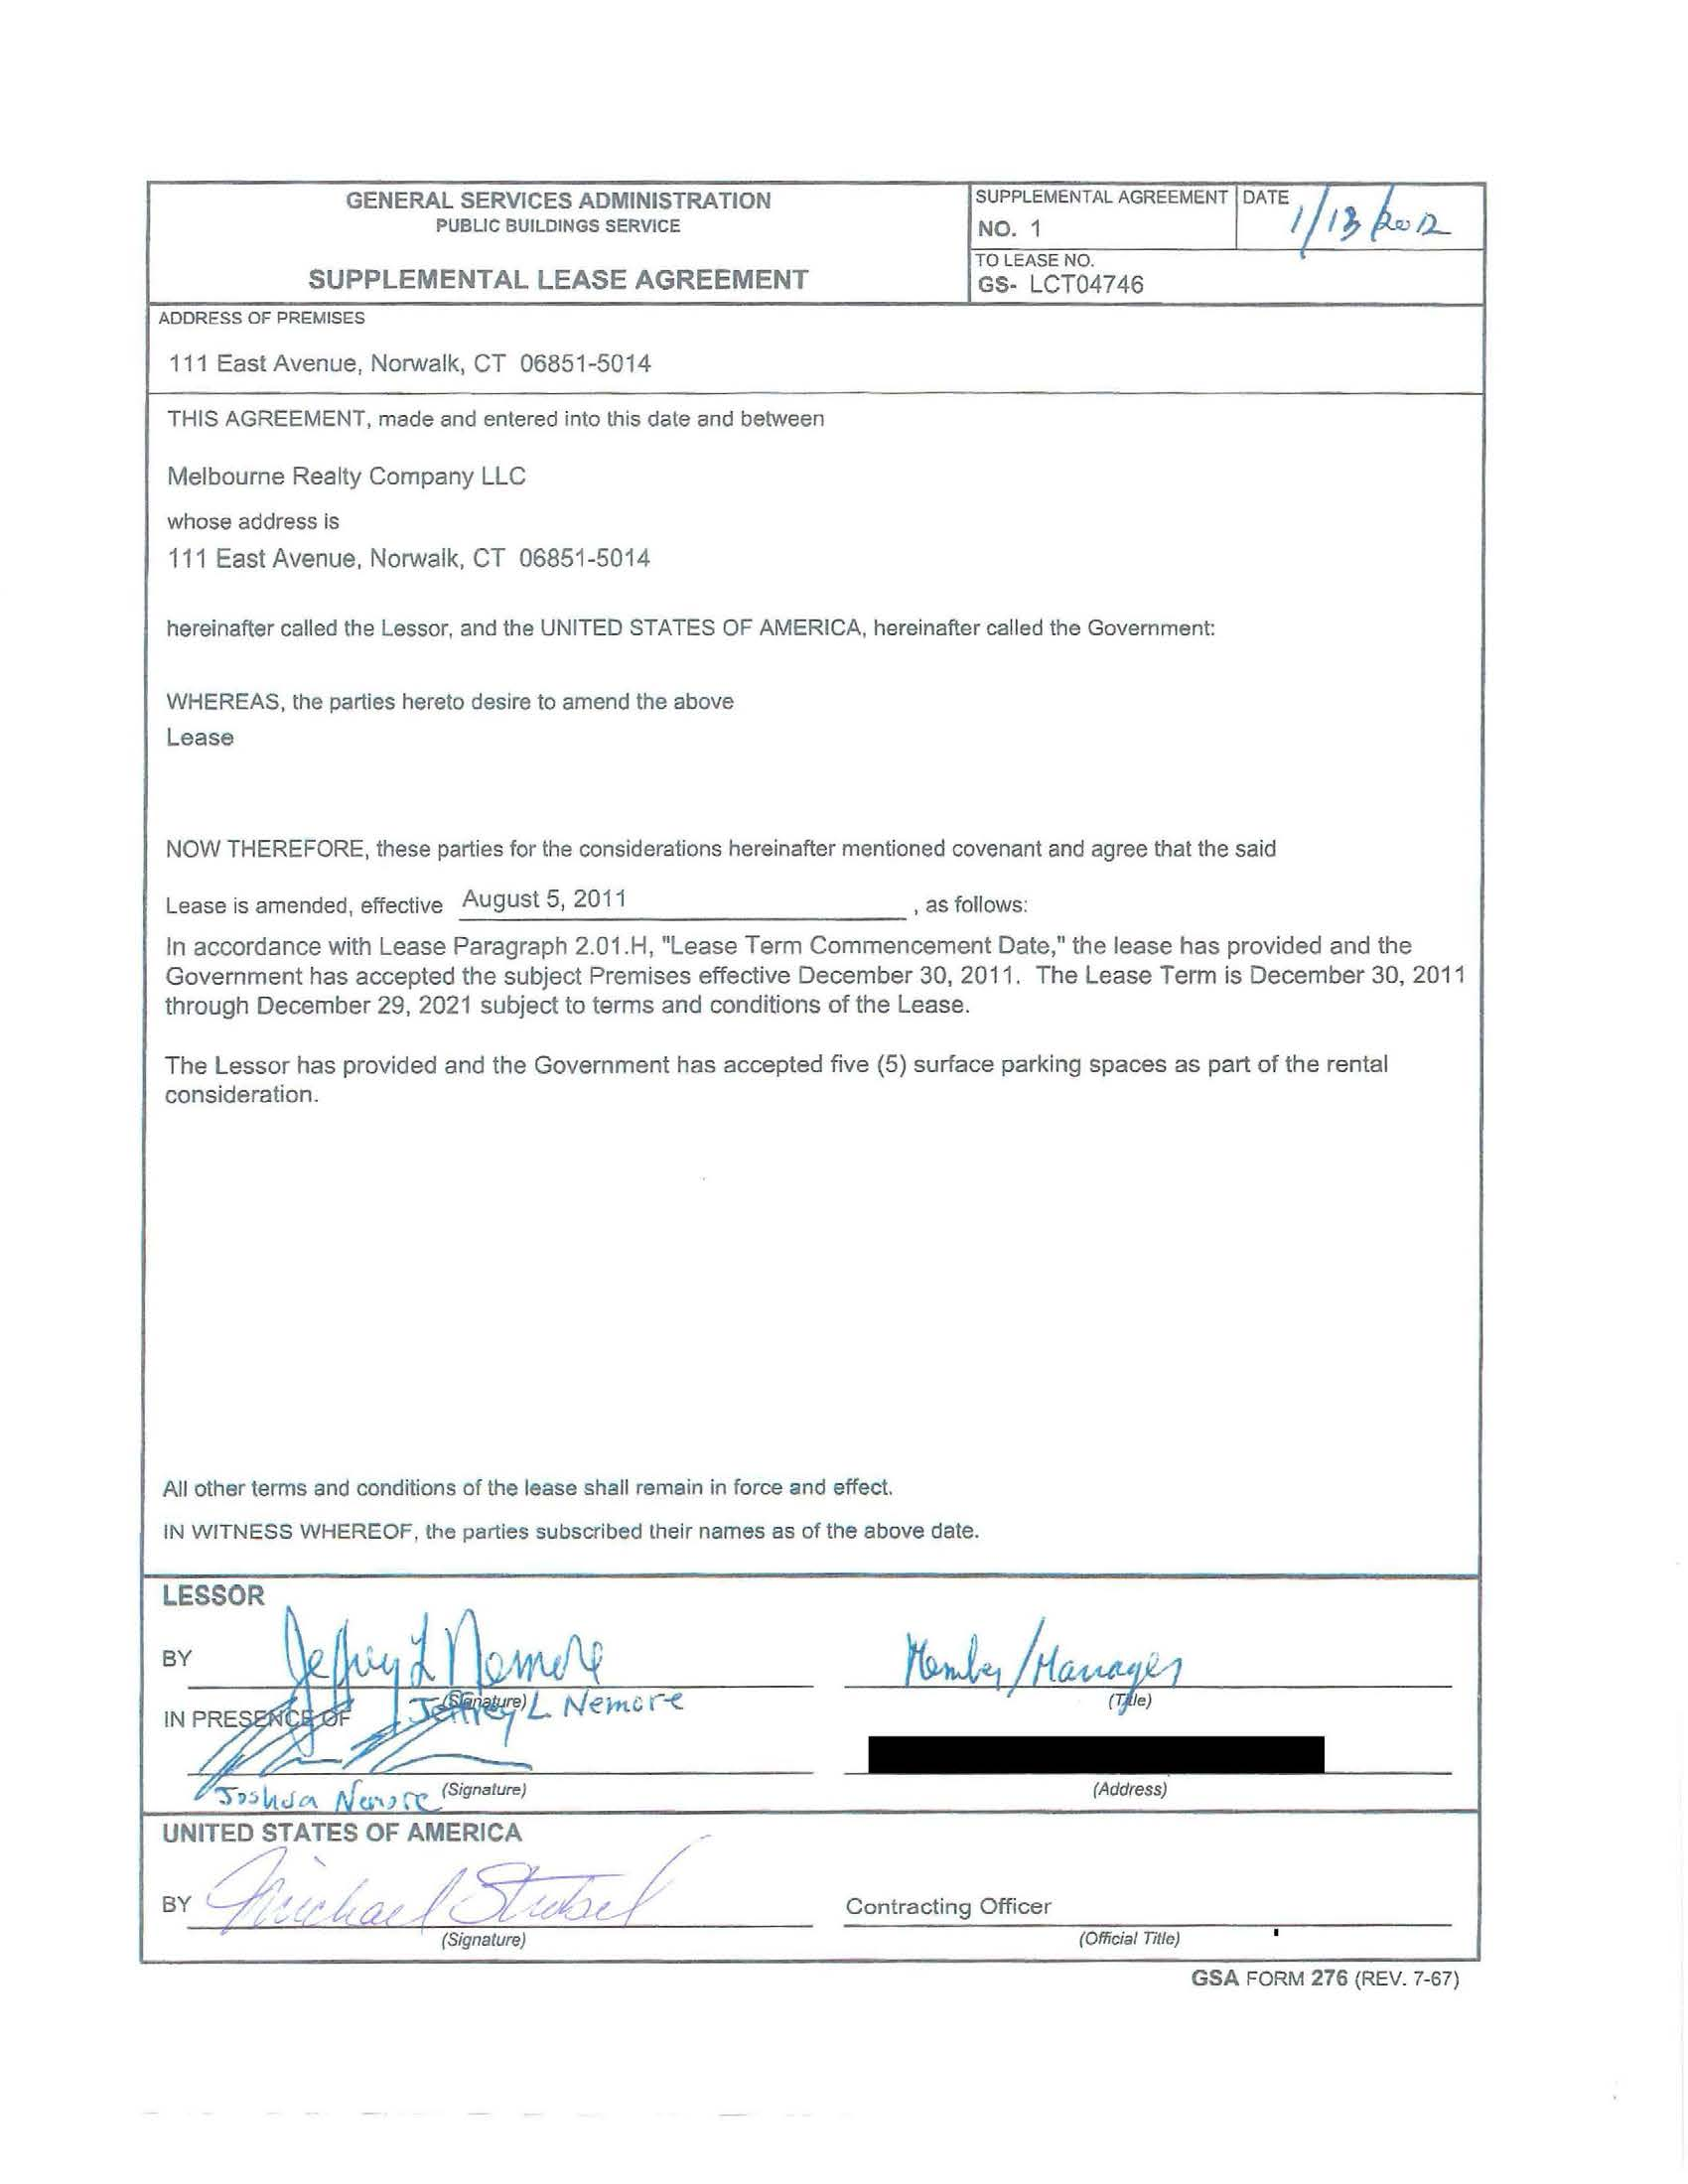handwritten: (207, 1688, 692, 1794), (197, 1844, 741, 1932), (227, 1601, 699, 1693), (869, 1611, 1215, 1711), (1278, 177, 1479, 253)
